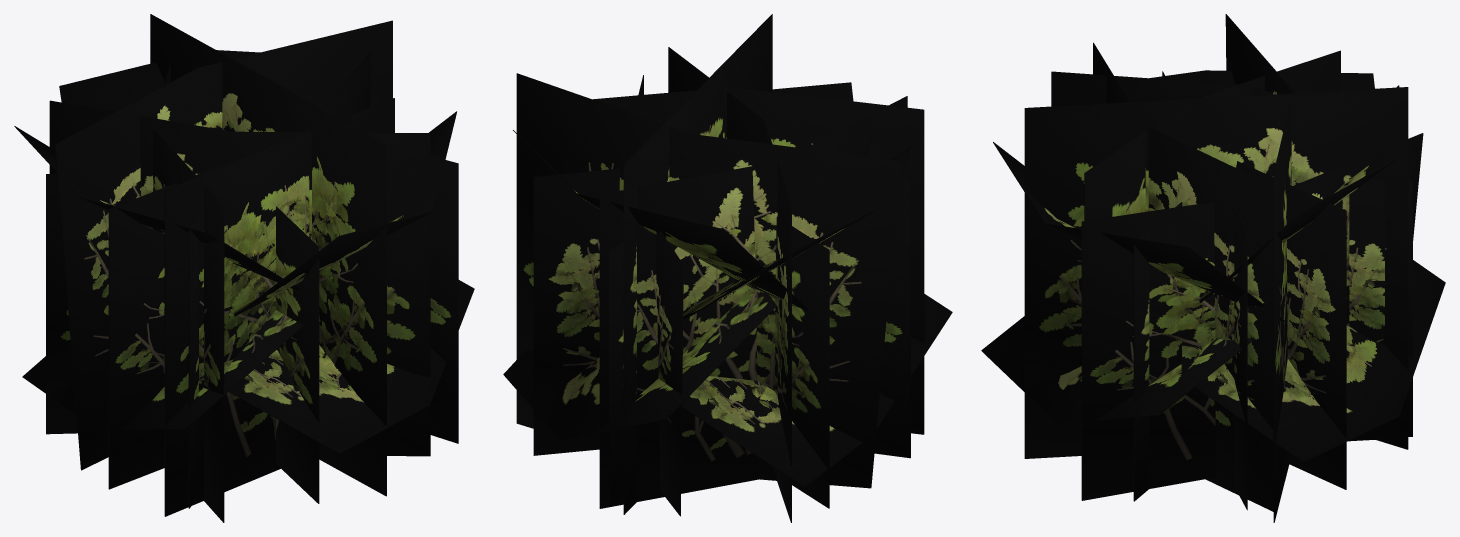
Rendered from bush5.fbx.
3 renders of one model, left to right at view 1: azimuth 30°, elevation 25°; view 2: azimuth 150°, elevation 25°; view 3: azimuth 270°, elevation 25°, orthographic.
Visible parts, largest first — view 1: Bush-03; view 2: Bush-03; view 3: Bush-03.
Part boxes in pixels (x1,y1,x2,y2): Bush-03: (14, 14, 474, 522); Bush-03: (503, 14, 952, 522); Bush-03: (981, 14, 1445, 522).
Bounding box in the file's own units: 117 × 102 × 122.
